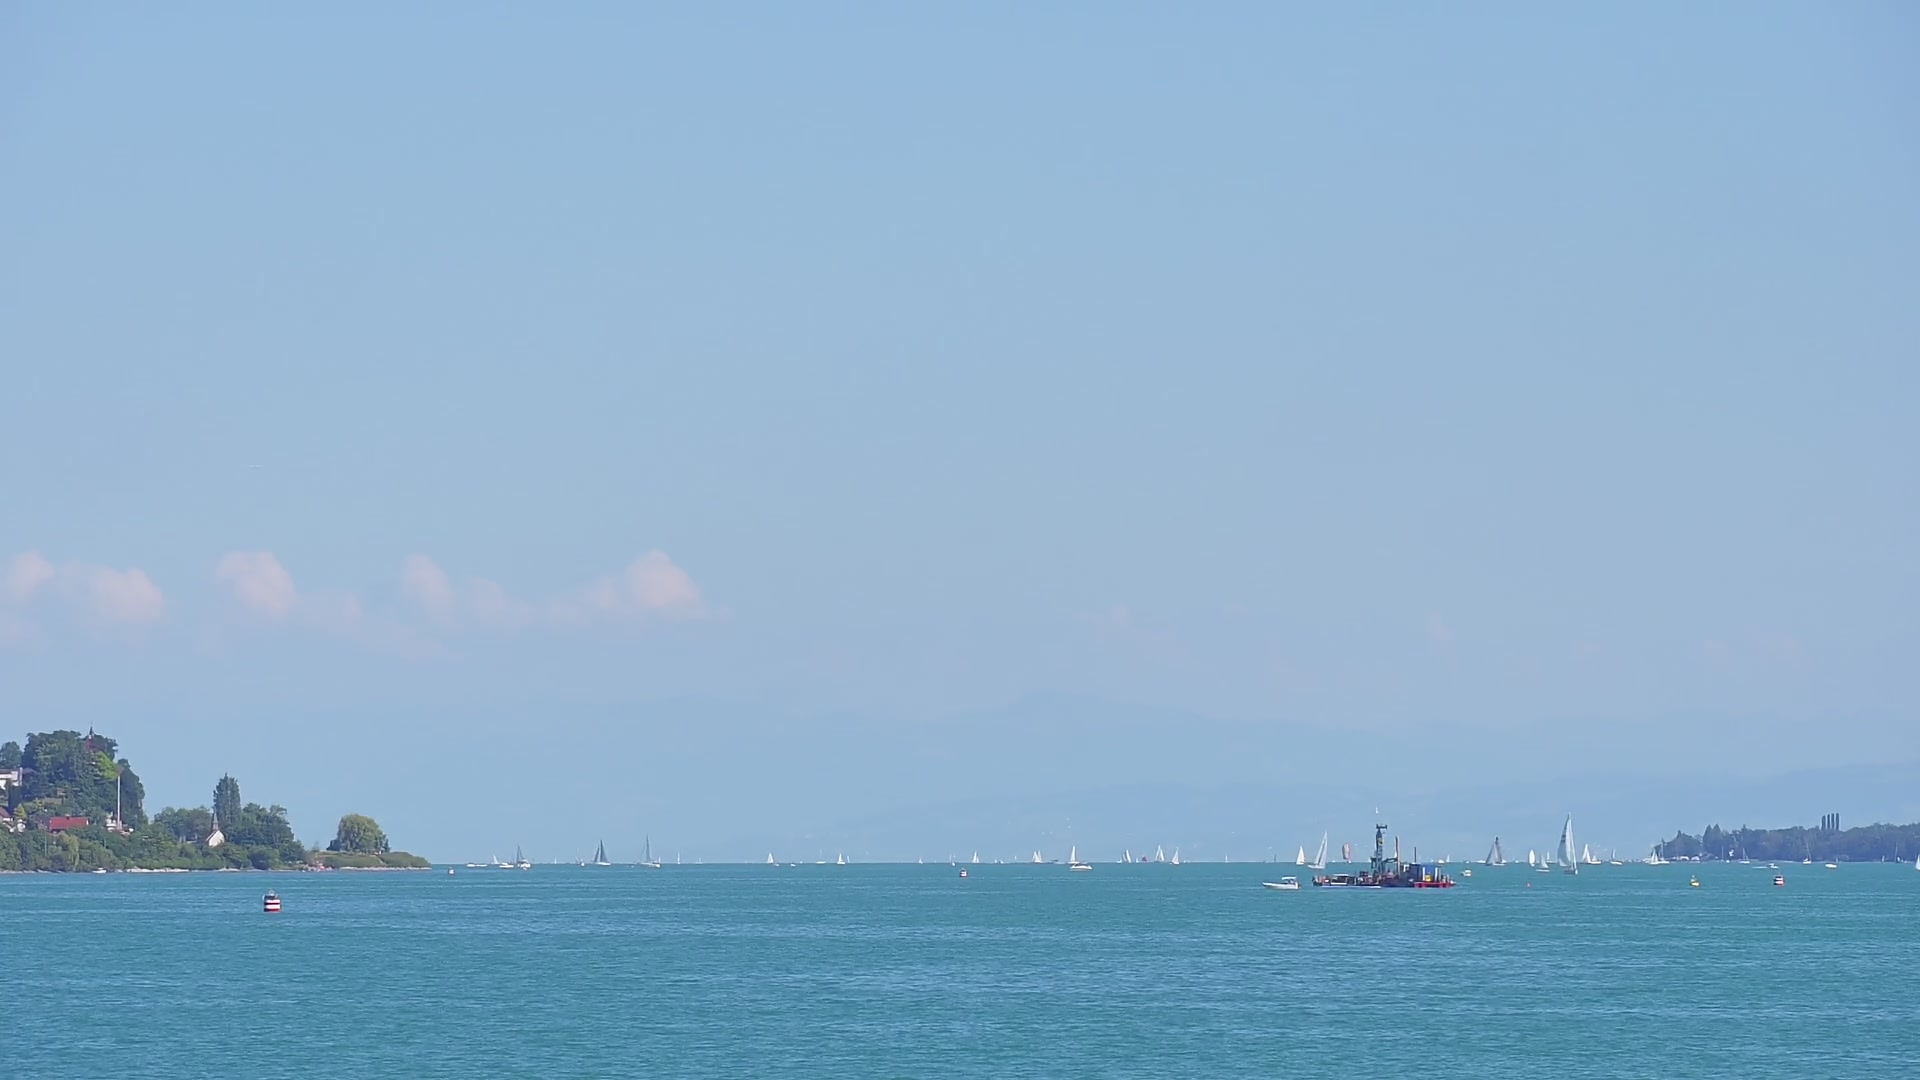sea: (1555, 810, 1578, 876), (1305, 829, 1328, 869), (1484, 835, 1507, 866), (641, 829, 661, 866), (589, 837, 611, 866), (1262, 874, 1299, 890), (514, 843, 530, 868), (1656, 837, 1669, 865), (1065, 844, 1080, 866), (1578, 843, 1592, 865), (1534, 855, 1549, 873), (1609, 847, 1625, 865), (1069, 860, 1093, 872), (1294, 844, 1305, 865), (1801, 843, 1812, 866), (1735, 847, 1750, 864), (1170, 845, 1182, 865), (1526, 848, 1538, 868), (814, 847, 825, 865), (1120, 847, 1131, 865), (1154, 845, 1164, 864), (1648, 847, 1658, 866), (465, 860, 487, 868), (1044, 855, 1060, 865), (835, 852, 847, 865), (971, 851, 981, 865), (1135, 855, 1150, 865), (574, 847, 582, 865), (1030, 849, 1040, 862), (673, 851, 682, 865), (1544, 848, 1553, 862), (498, 860, 514, 868), (488, 853, 498, 865), (579, 852, 587, 868), (1766, 861, 1779, 870), (1913, 855, 1920, 872), (1589, 855, 1600, 865), (1476, 856, 1487, 865), (1460, 869, 1472, 878), (651, 855, 662, 864), (766, 851, 773, 865), (1222, 855, 1232, 864), (695, 857, 704, 865), (553, 855, 559, 865), (844, 855, 852, 862), (916, 856, 923, 864), (1514, 858, 1520, 864)
